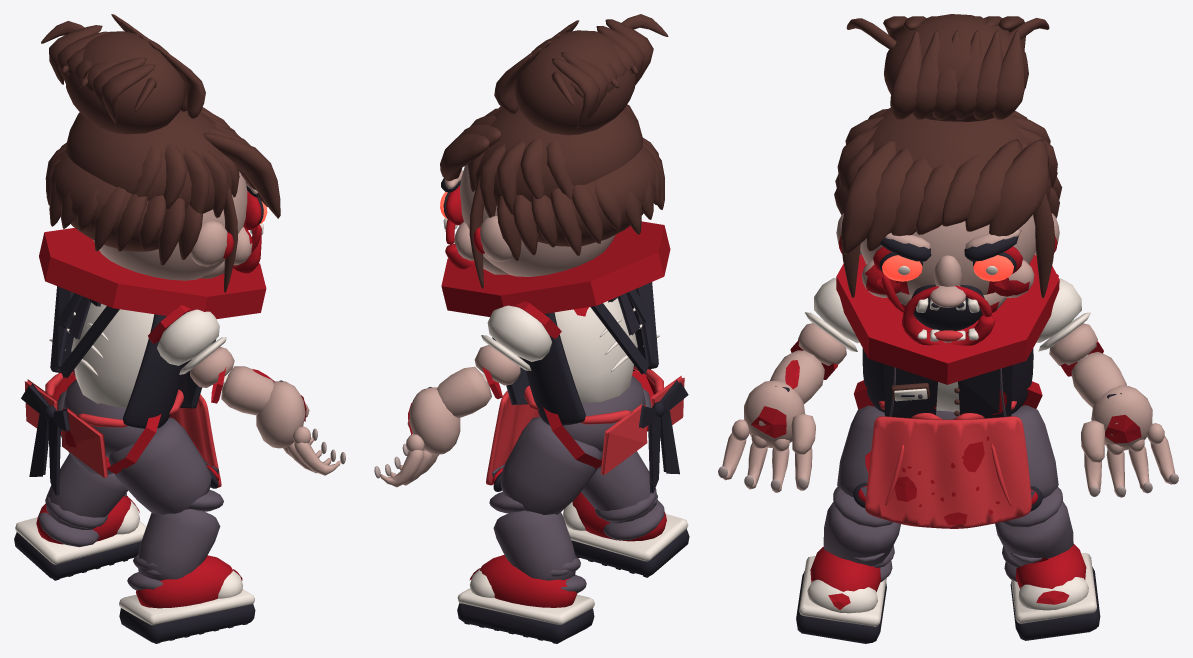
File: inf.cashier.glb
3 renders of one model, left to right at view 1: azimuth 30°, elevation 25°; view 2: azimuth 150°, elevation 25°; view 3: azimuth 270°, elevation 25°, orthographic. The views are drawn at different scales.
Visible parts, largest first — view 1: head, torso, stump_head, hip, footR, legR, footL, shinR, shinL, handR, armR, foreArmR (+2 smaller); view 2: head, torso, stump_head, hip, footL, legL, shinL, footR, shinR, handL, armL, foreArmL (+2 smaller); view 3: head, hip, stump_head, torso, handR, handL, footR, footL, shinR, shinL, armR, armL (+4 smaller).
Boxes of the visible parts, x1,y1,x2,y2 form: head: (41, 14, 280, 292); torso: (49, 286, 216, 428); stump_head: (39, 228, 266, 318); hip: (21, 370, 221, 496); footR: (119, 555, 255, 643); legR: (108, 417, 219, 514); footL: (14, 496, 146, 580); shinR: (127, 489, 223, 590); shinL: (38, 453, 127, 547); handR: (256, 381, 345, 475); armR: (157, 309, 234, 387); foreArmR: (221, 366, 283, 415); head: (440, 14, 668, 288); torso: (492, 282, 659, 425); stump_head: (441, 221, 670, 316); hip: (486, 366, 688, 493); footL: (457, 555, 594, 643); legL: (492, 416, 602, 514); shinL: (489, 492, 586, 592); footR: (562, 492, 689, 577); shinR: (581, 451, 664, 540); handL: (374, 387, 460, 487); armL: (474, 305, 551, 385); foreArmL: (424, 366, 491, 418); head: (834, 14, 1062, 345); hip: (865, 401, 1031, 528); stump_head: (836, 254, 1059, 384); torso: (862, 348, 1033, 418); handR: (718, 380, 815, 492); handL: (1081, 385, 1178, 497); footR: (796, 546, 886, 643); footL: (1010, 544, 1100, 640); shinR: (823, 486, 900, 582); shinL: (995, 487, 1073, 581); armR: (798, 278, 859, 365); armL: (1036, 278, 1097, 365).
Bounding box in the file's own units: 0.7391 × 1.8 × 1.27.
